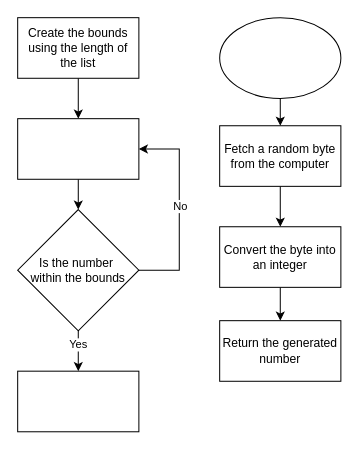
Some shapes in this 359 by 449 pixel diagram are drawn without their labels. Each missing label, with the centre of its shape:
"Call the RNG method" goes at point 78,148.
"RNG Method" goes at point 280,57.
"Swap the current item with the item in the returned index" goes at point 78,401.
